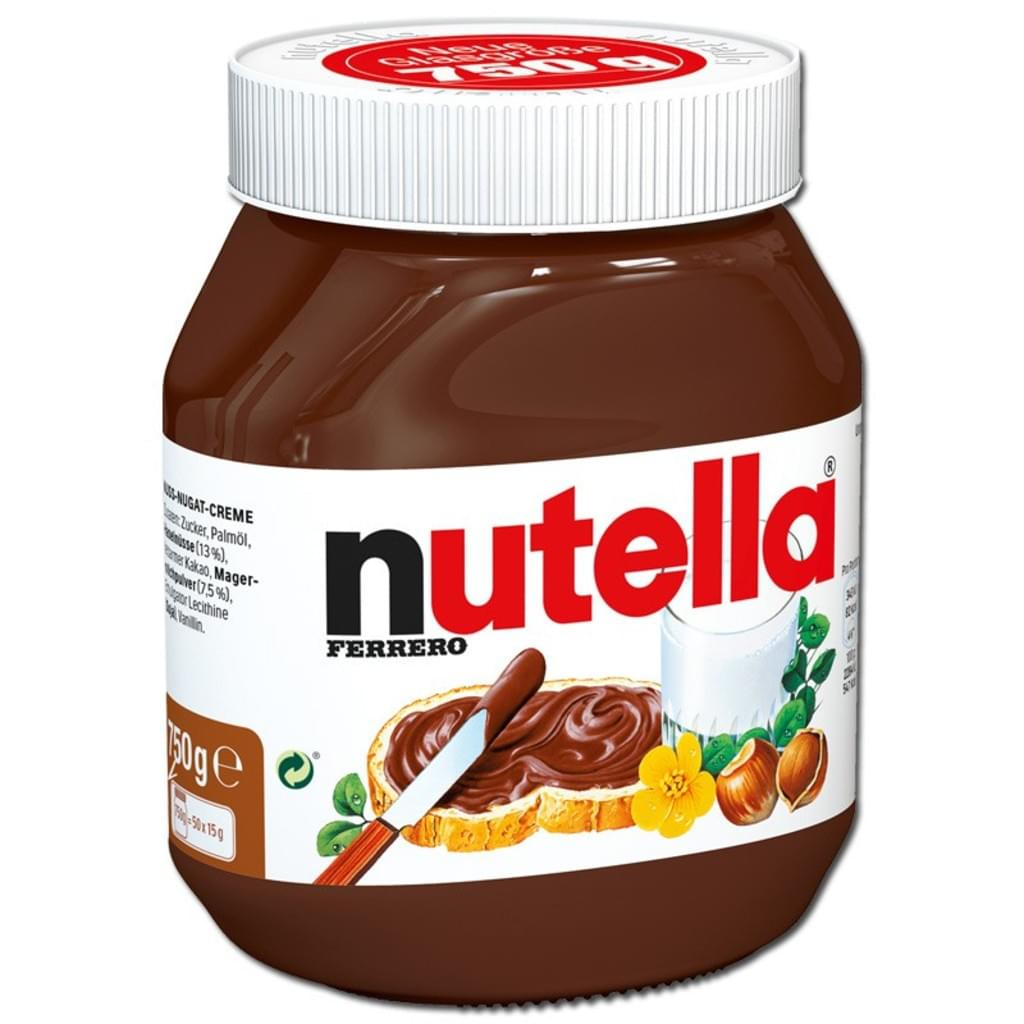nutella: (160, 19, 867, 1010)
